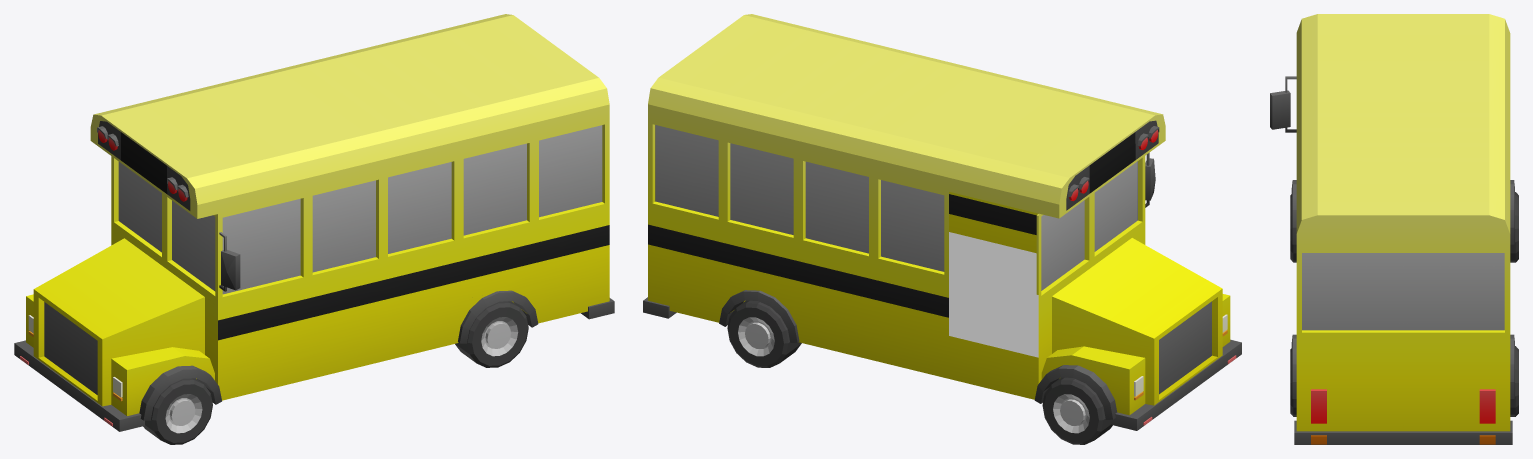
Rendered from school_bus_interior3 weird 1.fbx.
3 renders of one model, left to right at view 1: azimuth 30°, elevation 25°; view 2: azimuth 150°, elevation 25°; view 3: azimuth 270°, elevation 25°, orthographic.
Parts seen in each view (by area): view 1: G_Bus, G_Bus.001, G_Bus_BWheelL, G_Bus_FWheelL; view 2: G_Bus, G_Bus.001, G_Bus.002, G_Bus_BWheelR, G_Bus_FWheelR; view 3: G_Bus, G_Bus.001, G_Bus_FWheelR, G_Bus_BWheelR.
Boxes of the visible parts, x1,y1,x2,y2 form: G_Bus: (14, 14, 614, 431); G_Bus.001: (114, 124, 604, 296); G_Bus_BWheelL: (455, 301, 528, 367); G_Bus_FWheelL: (143, 378, 212, 444); G_Bus: (643, 14, 1241, 430); G_Bus.001: (652, 124, 1142, 295); G_Bus.002: (949, 232, 1038, 357); G_Bus_BWheelR: (727, 300, 801, 367); G_Bus_FWheelR: (1042, 377, 1112, 444); G_Bus: (1270, 14, 1514, 444); G_Bus.001: (1302, 253, 1504, 332); G_Bus_FWheelR: (1510, 192, 1518, 262); G_Bus_BWheelR: (1510, 346, 1518, 416).
Size of the model in its own units: 436 by 213 by 189.
1 material, 1 textured.
